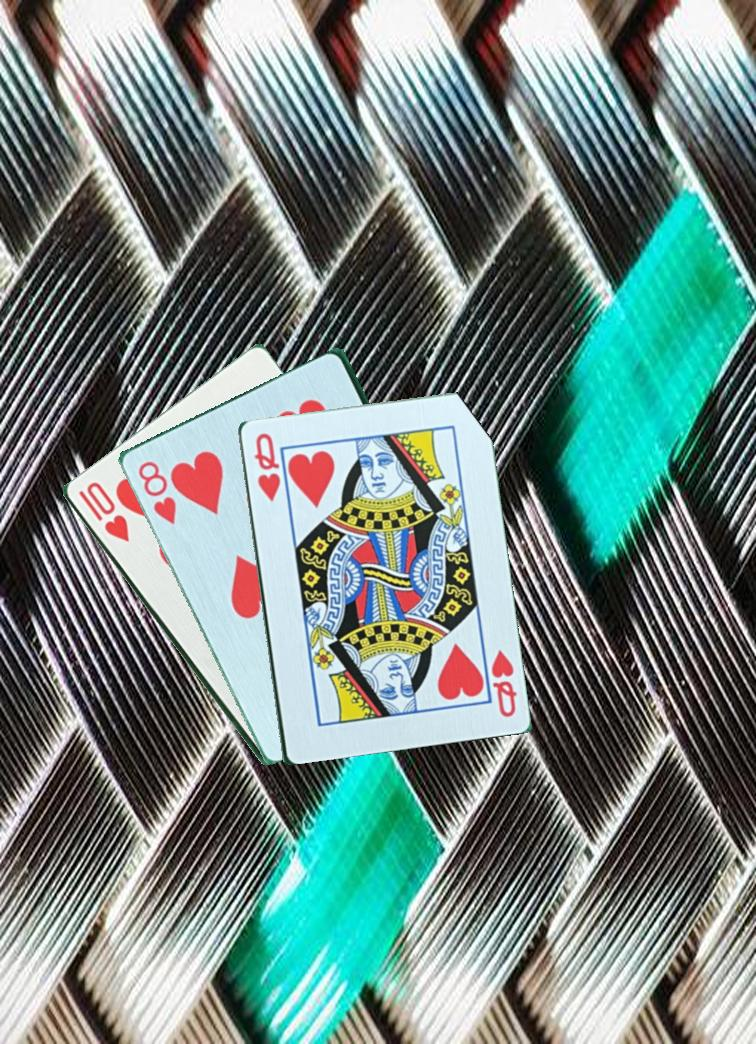8h: (134, 457, 179, 528)
qh: (250, 428, 283, 505), (486, 646, 519, 720)
th: (74, 478, 132, 546)
